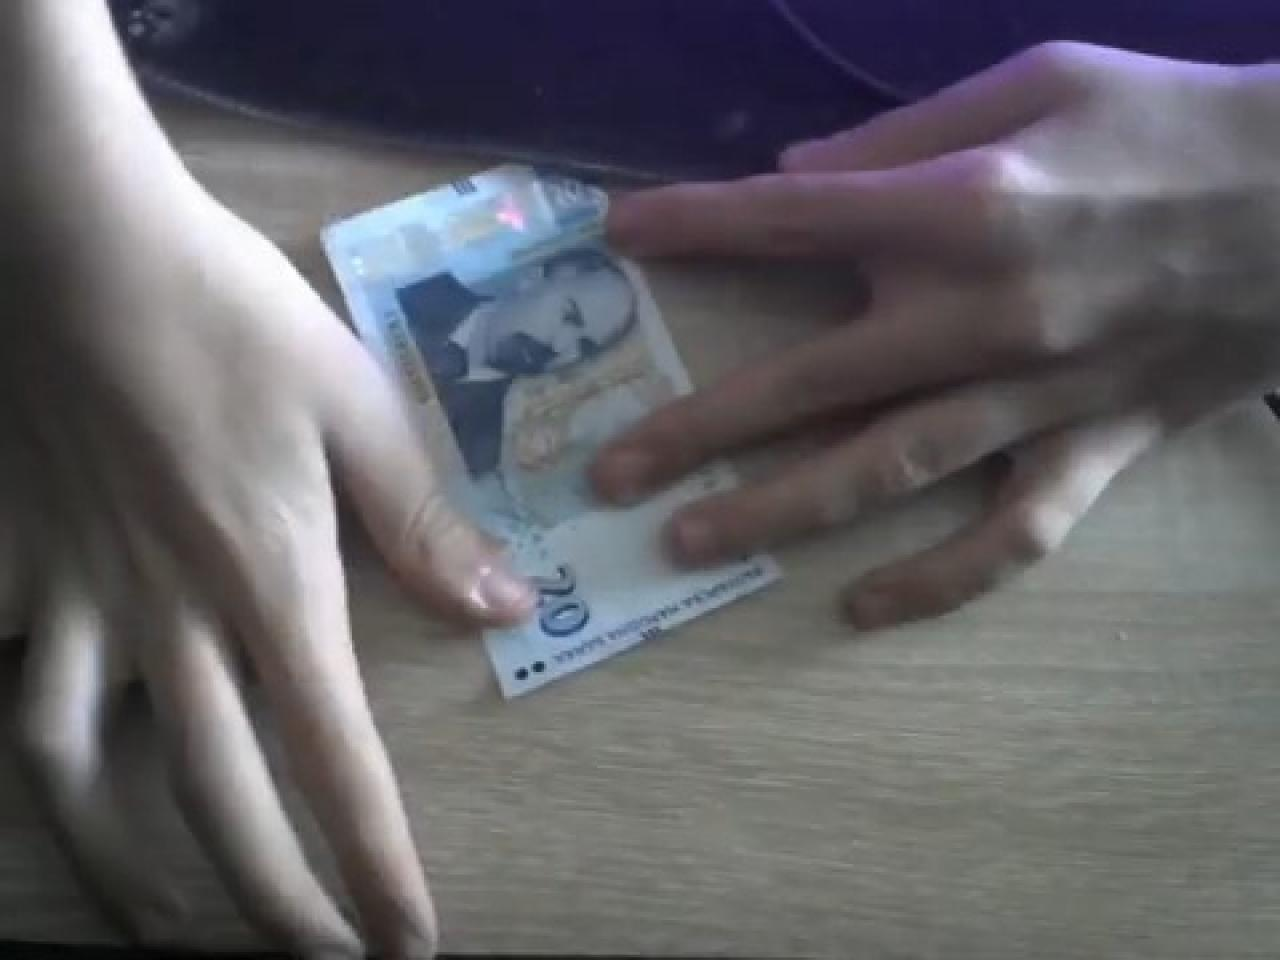20leva: (483, 483, 781, 699)
